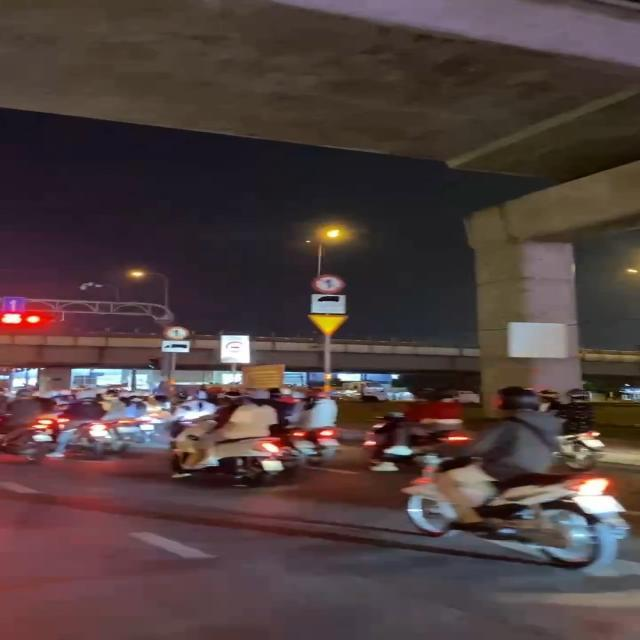136-cam-di-thang: (312, 274, 344, 294), (164, 326, 190, 340)
208-giao-nhau-voi-duong-uu-tien: (310, 314, 350, 336)
